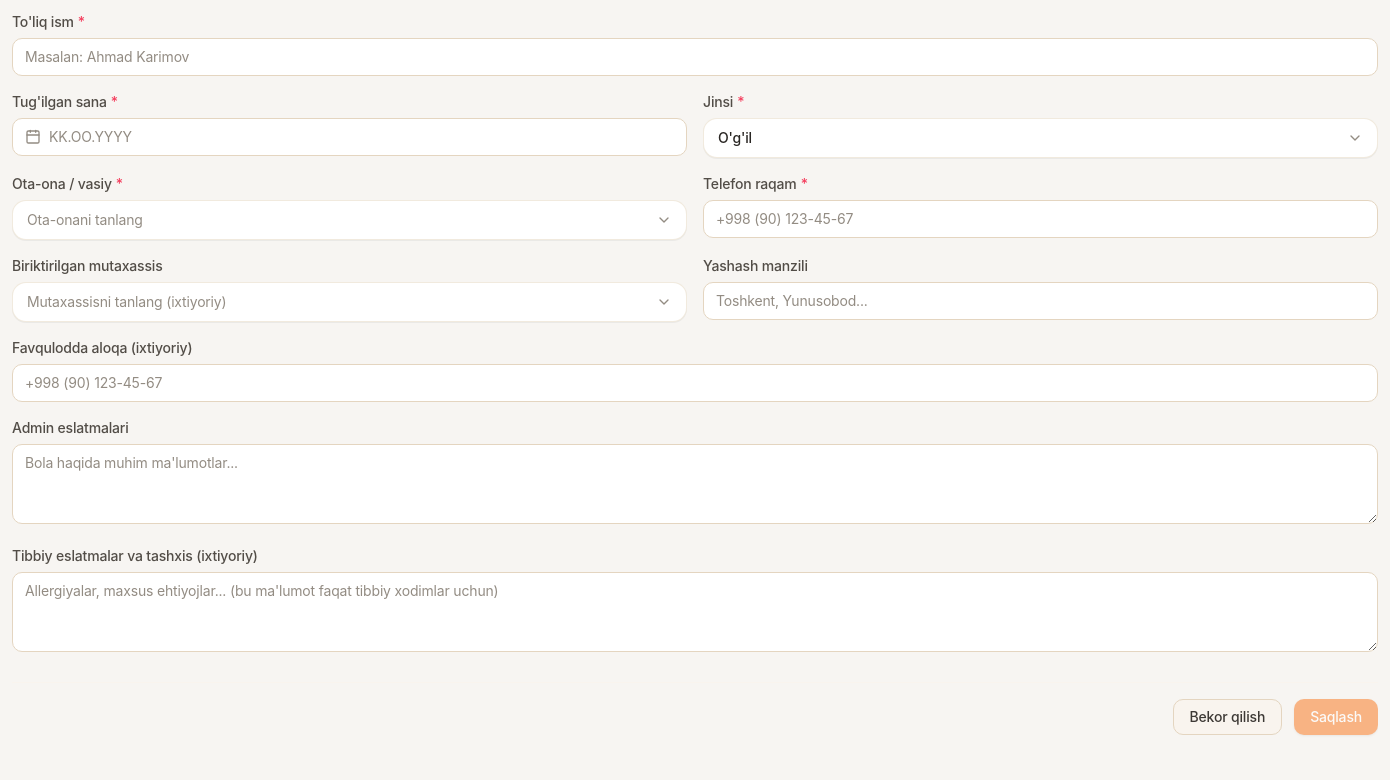
CreateChildForm Component › formats phone number with +998 (XX) XXX-XX-XX mask as user types
Type "901234567" into the field with placeholder "+998 (90) 123-45-67". click: [1040, 219]
box: [703, 200, 1378, 238]
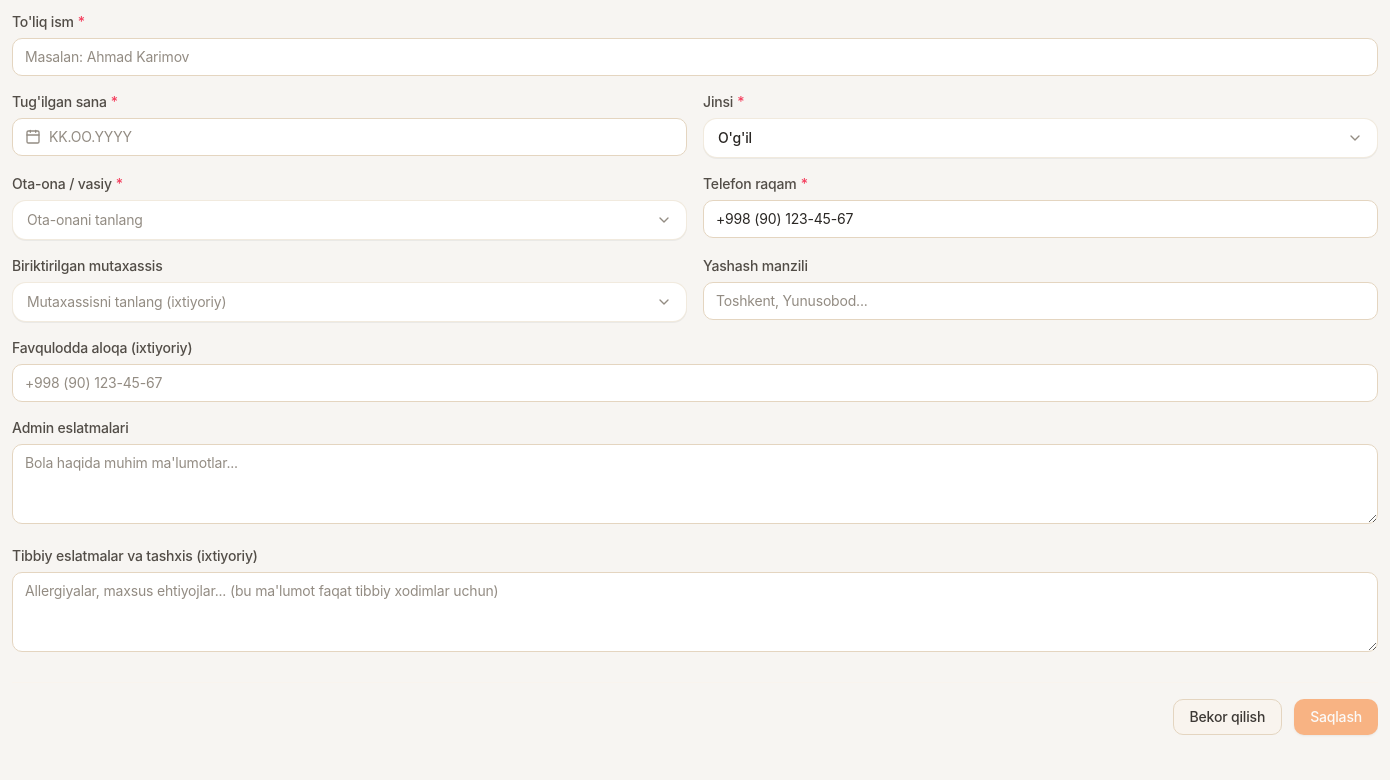
Result: the field with placeholder "+998 (90) 123-45-67" holds "+998 (90) 123-45-67" at [703, 200, 1378, 238]
